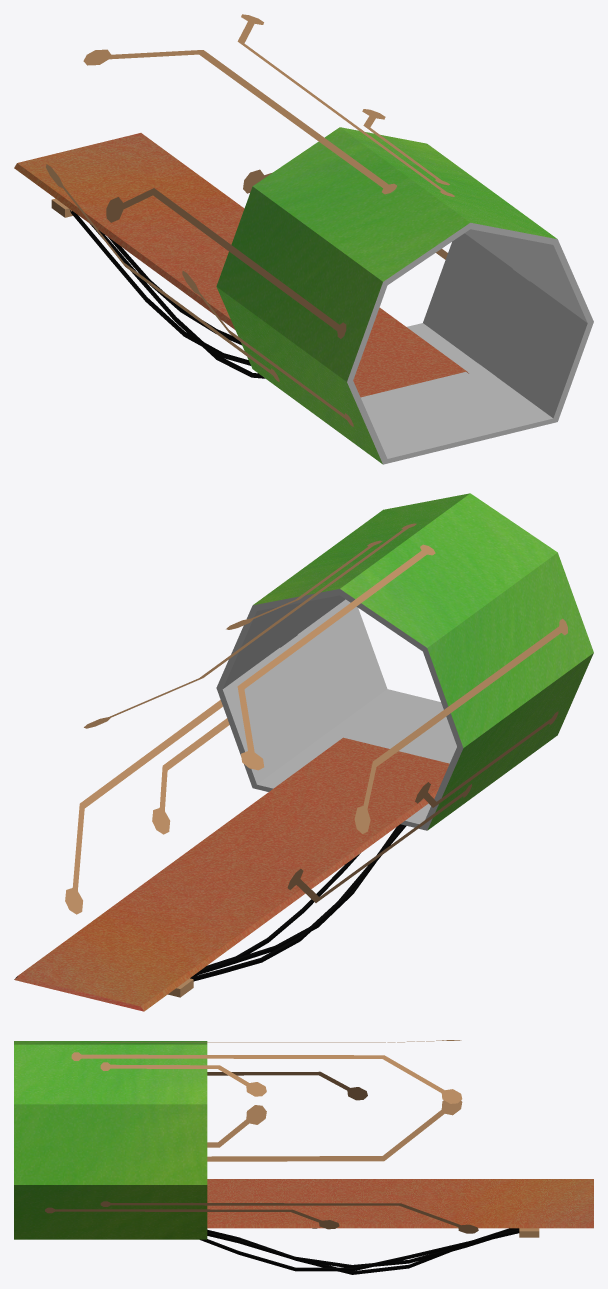
File: MemeFactory_BridgeSection_Art.fbx
3 views of the same model, one above another, from view 1: azimuth 30°, elevation 25°; view 2: azimuth 150°, elevation 25°; view 3: azimuth 270°, elevation 25° (orthographic). The views are drawn at different scales.
Visible parts, largest first — view 1: MemeFactory_BridgeSection_Art; view 2: MemeFactory_BridgeSection_Art; view 3: MemeFactory_BridgeSection_Art.
Boxes of the visible parts, x1,y1,x2,y2 form: MemeFactory_BridgeSection_Art: (14, 14, 593, 464); MemeFactory_BridgeSection_Art: (14, 493, 593, 1011); MemeFactory_BridgeSection_Art: (14, 1040, 593, 1274).
Size of the model in its own units: 416 by 440 by 1080.
